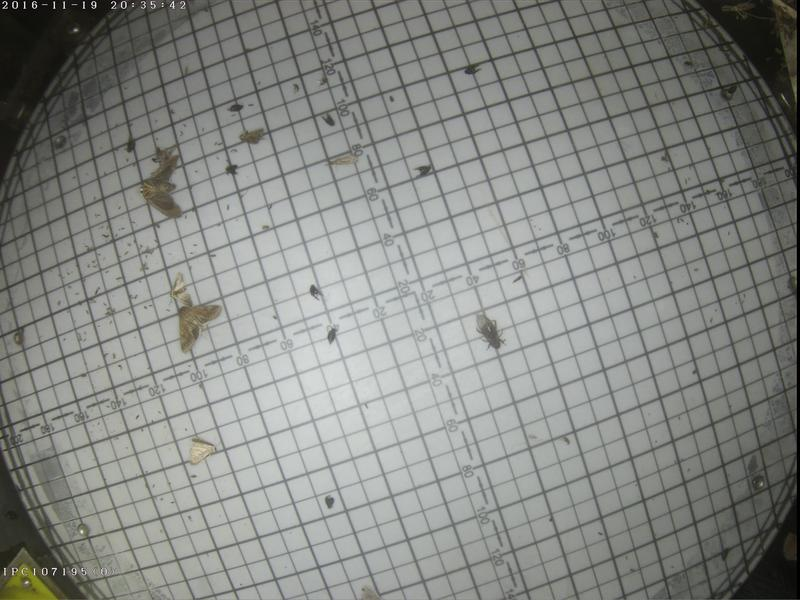Bollworm: (172, 302, 223, 354)
